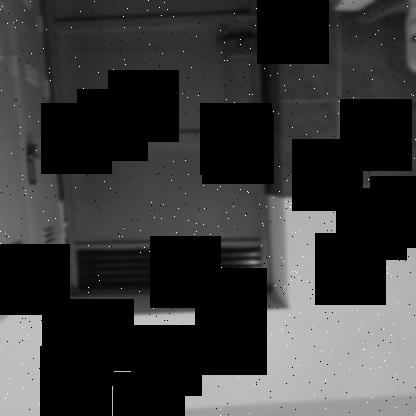Porte: (35, 0, 287, 320)
